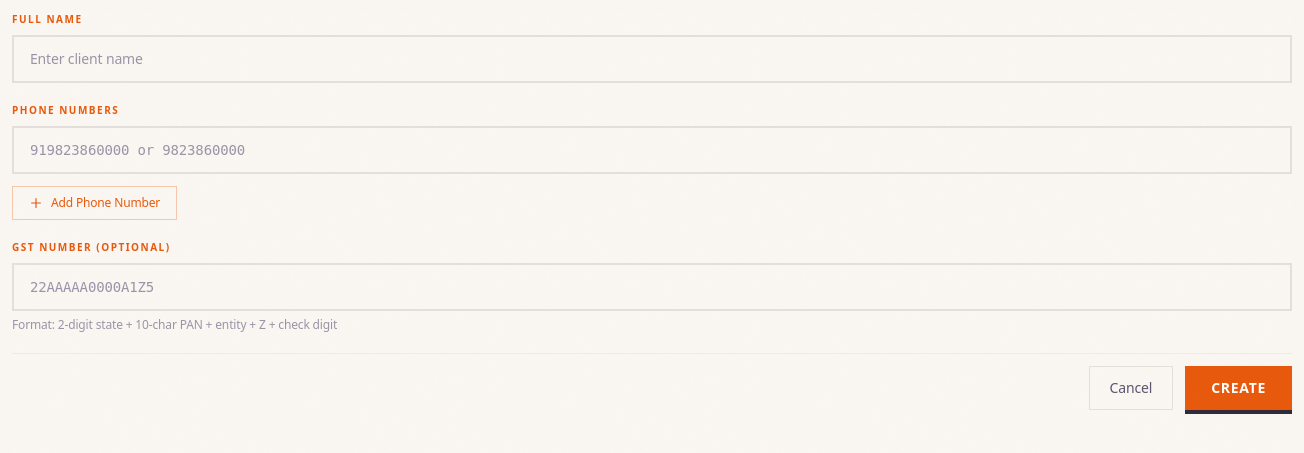
Scenario: ClientForm › Unit Tests - Form Validation › should display error when phone is empty
Type "Test User" into the field labelled "Full Name".
click(652, 59); type("Test User")  # box [12, 35, 1292, 83]
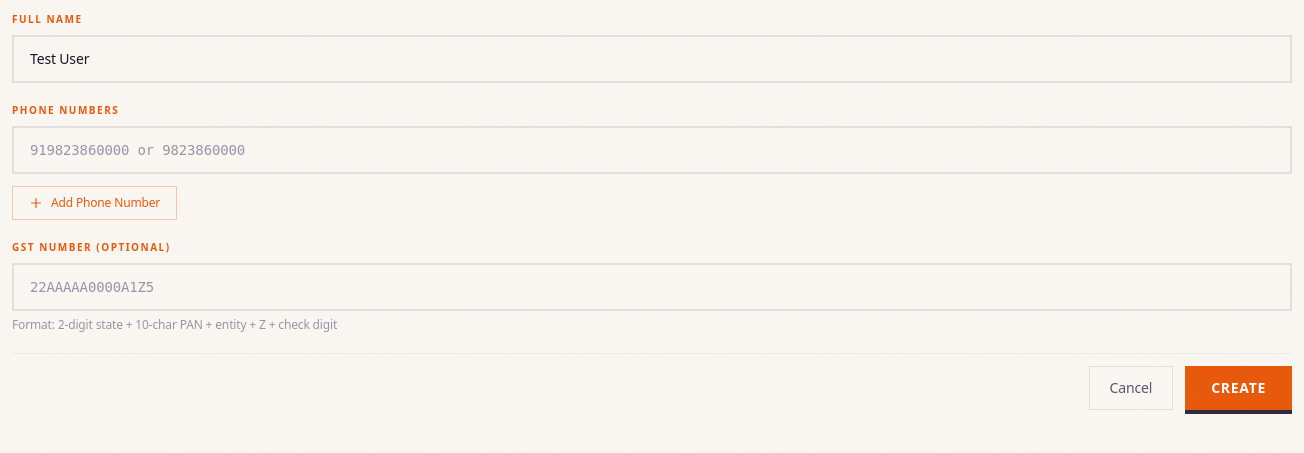
Click the button "Create".
click(1239, 388)  # box [1185, 366, 1292, 410]
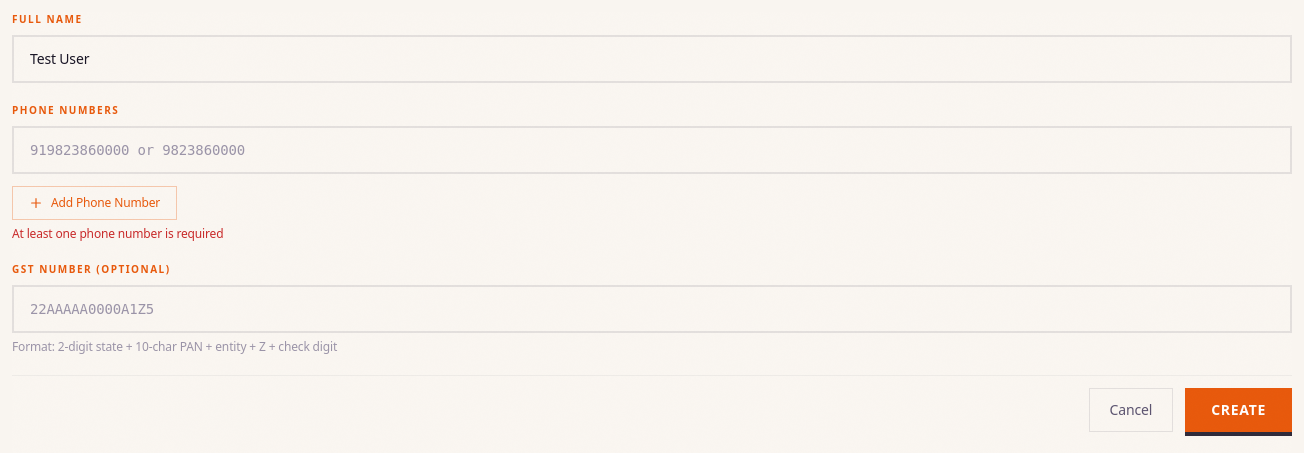
Check: the text "At least one phone number is required" is shown, box [12, 225, 223, 242]
